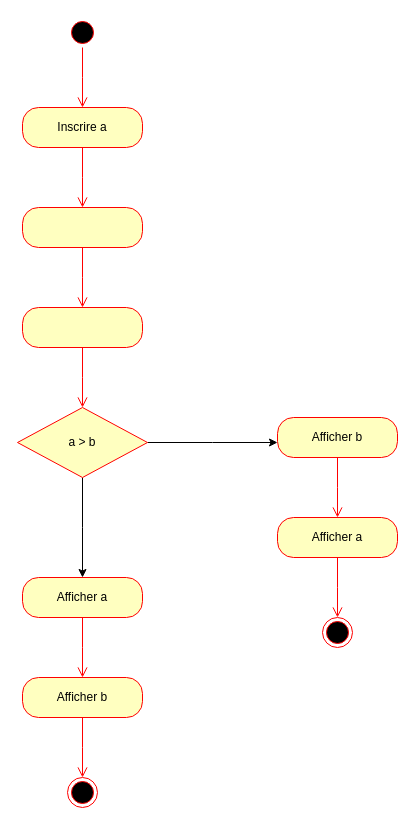
The diagram is 415 pixels wide and 825 high, and some of its shapes have lost their labels. Here are the shapes that lost their labels. From the top down, the centre of each, then its label:
the point at 82,227: Inscrire b
the point at 82,327: Activity
